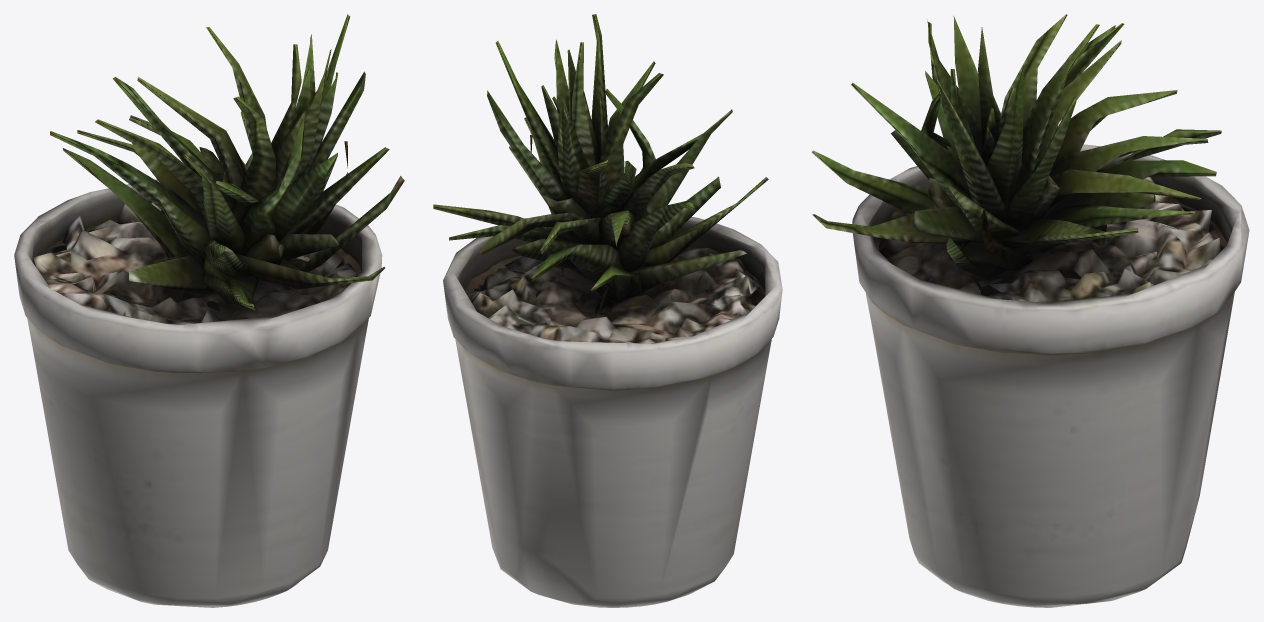
File: potted_plant_04.glb
The picture shows the model from 3 angles, left to right: view 1: azimuth 30°, elevation 25°; view 2: azimuth 150°, elevation 25°; view 3: azimuth 270°, elevation 25°; orthographic projection. The views are drawn at different scales.
Parts seen in each view (by area): view 1: potted_plant_04_pot, potted_plant_04_plant, potted_plant_04_ground, potted_plant_04_dirt; view 2: potted_plant_04_pot, potted_plant_04_plant, potted_plant_04_ground, potted_plant_04_dirt; view 3: potted_plant_04_pot, potted_plant_04_plant, potted_plant_04_ground, potted_plant_04_dirt.
Part boxes in pixels (x1=…): potted_plant_04_pot: x1=14, y1=179, x2=382, y2=607; potted_plant_04_plant: x1=50, y1=14, x2=404, y2=310; potted_plant_04_ground: x1=33, y1=202, x2=357, y2=324; potted_plant_04_dirt: x1=35, y1=210, x2=361, y2=311; potted_plant_04_pot: x1=443, y1=214, x2=782, y2=607; potted_plant_04_plant: x1=433, y1=14, x2=768, y2=316; potted_plant_04_ground: x1=467, y1=248, x2=760, y2=343; potted_plant_04_dirt: x1=465, y1=248, x2=765, y2=307; potted_plant_04_pot: x1=852, y1=144, x2=1249, y2=607; potted_plant_04_plant: x1=811, y1=14, x2=1221, y2=279; potted_plant_04_ground: x1=879, y1=177, x2=1220, y2=302; potted_plant_04_dirt: x1=875, y1=203, x2=1227, y2=296.
Size of the model in its own units: 0.1672 by 0.2671 by 0.1845.
Materials: 1 (1 with a texture image).
